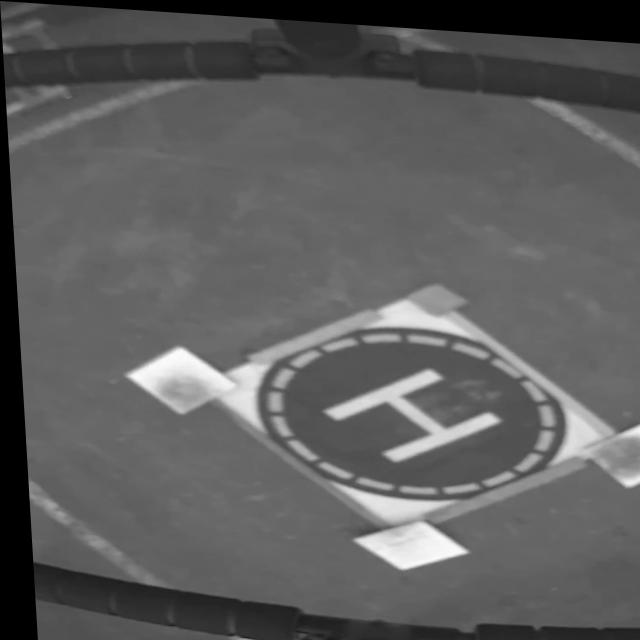Helipad: (319, 360, 502, 459)
